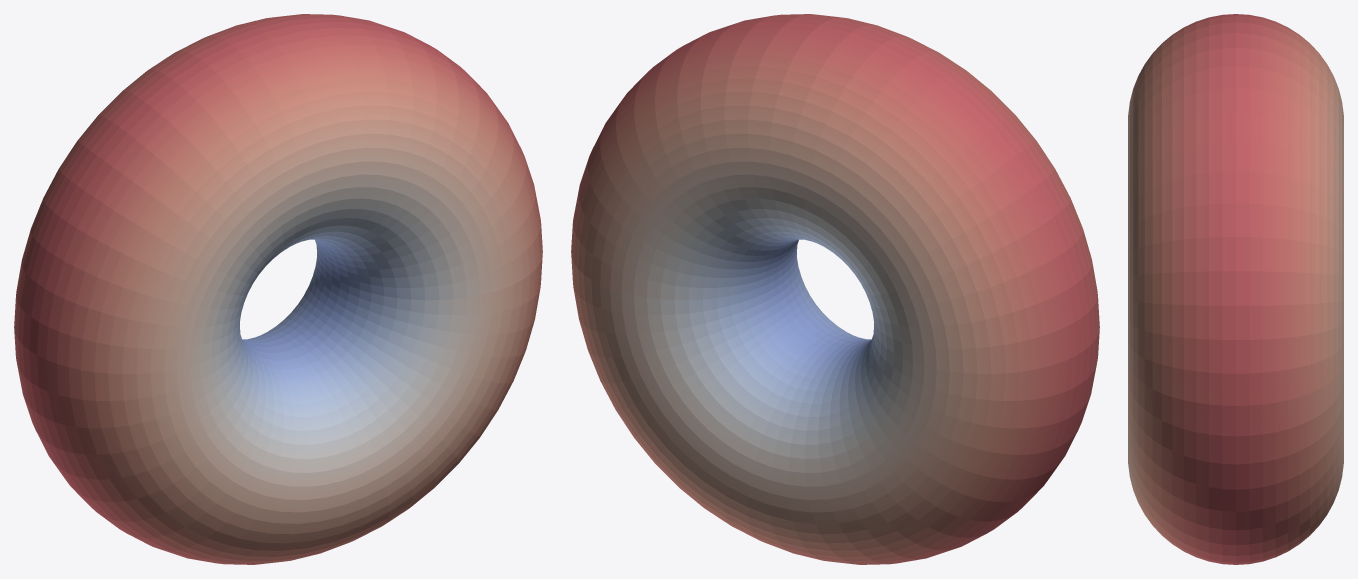
3 renders of one model, left to right at view 1: azimuth 30°, elevation 25°; view 2: azimuth 150°, elevation 25°; view 3: azimuth 270°, elevation 25°, orthographic. The views are drawn at different scales.
Parts seen in each view (by area): view 1: world; view 2: world; view 3: world.
Part boxes in pixels (left/top/right/bottom): world: left=14, top=14, right=542, bottom=564; world: left=571, top=14, right=1099, bottom=564; world: left=1128, top=14, right=1343, bottom=564.
Size of the model in its own units: 24.13 by 24.09 by 9.45.
